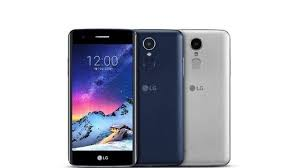lg: (65, 25, 138, 166)
